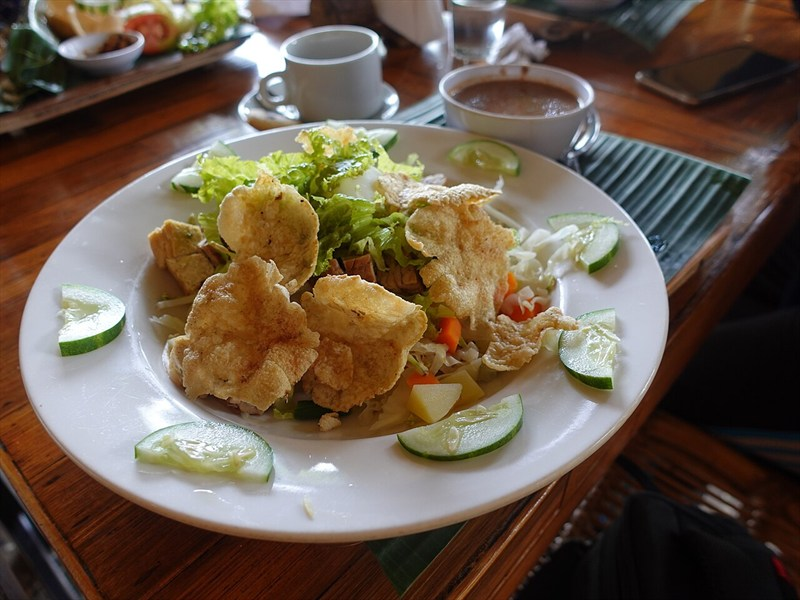Gado-Gado: (37, 19, 663, 526)
